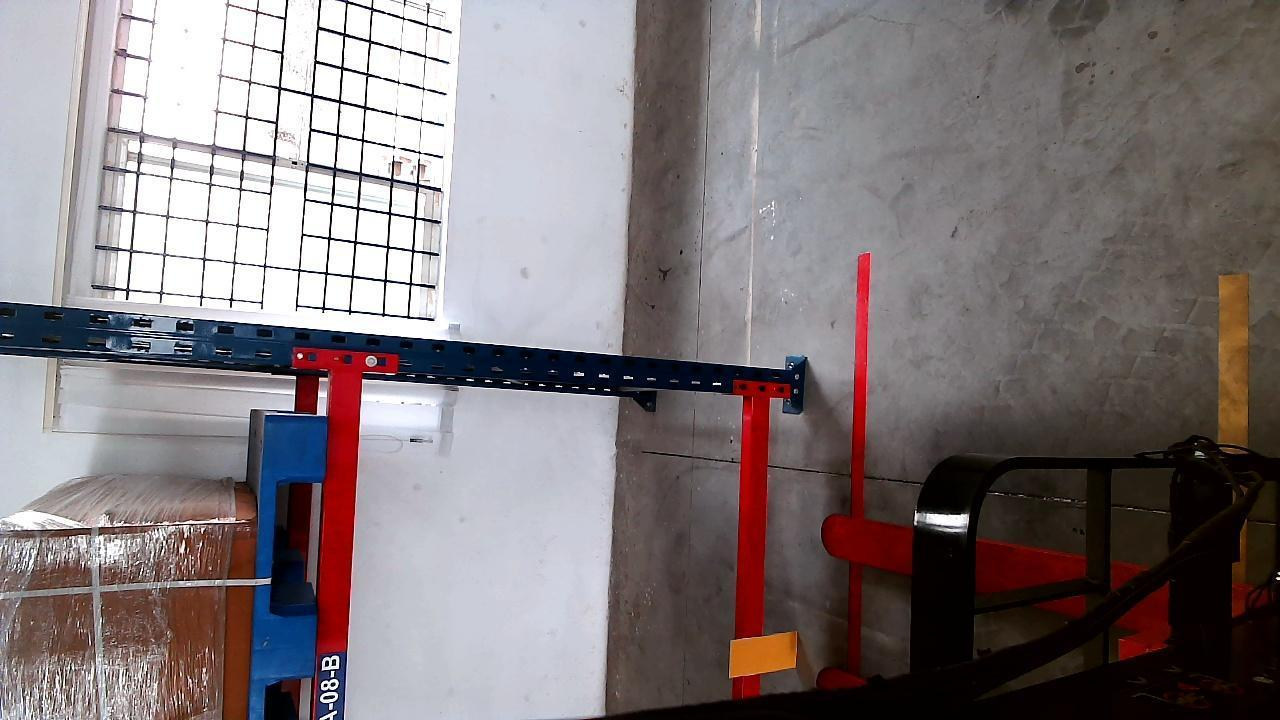h_rack: (315, 368, 365, 720), (737, 389, 769, 690)
orange_strip: (730, 630, 798, 679)
red_line: (850, 253, 879, 668)
small_pallet: (248, 406, 325, 720)
yellow_line: (1218, 270, 1247, 439)
